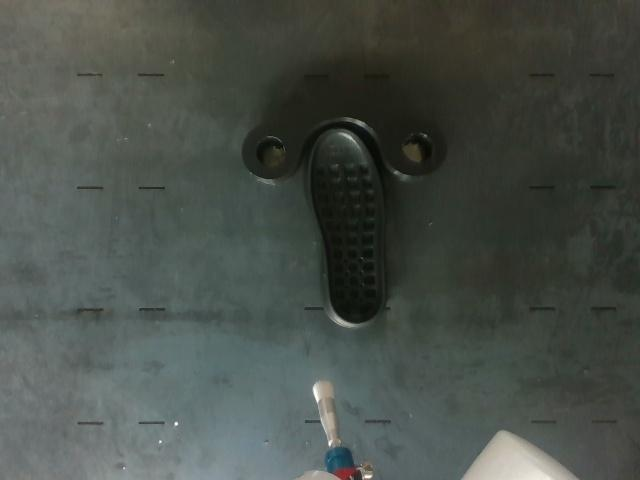shoes: (310, 133, 384, 323)
